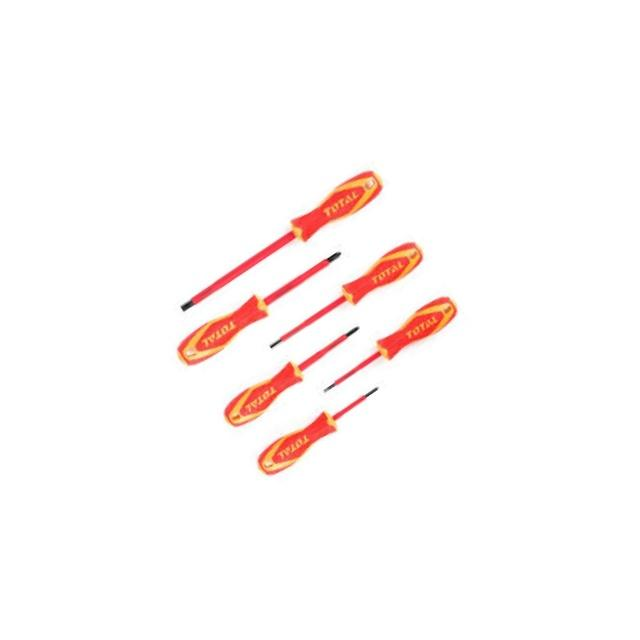screwdriver: (169, 161, 391, 326), (168, 235, 351, 374), (260, 232, 432, 363), (214, 314, 372, 436), (310, 286, 468, 407), (249, 371, 394, 483)
